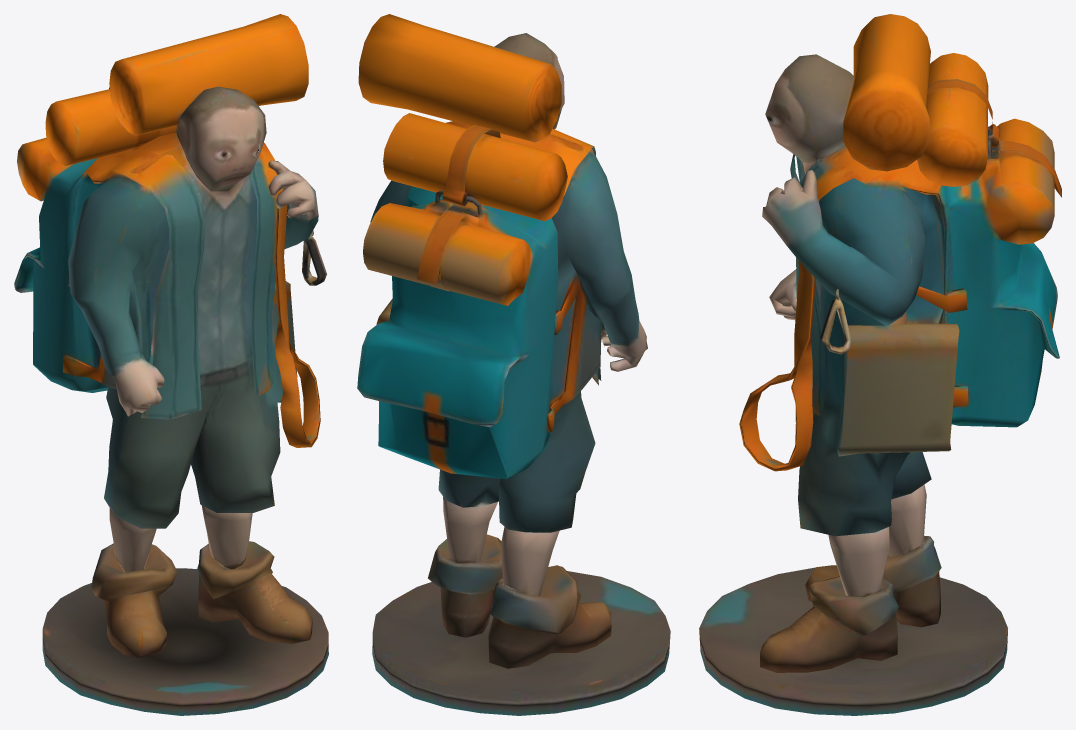
The model's file is friend.glb.
3 renders of one model, left to right at view 1: azimuth 30°, elevation 25°; view 2: azimuth 150°, elevation 25°; view 3: azimuth 270°, elevation 25°, orthographic. The views are drawn at different scales.
Bounding box in the file's own units: 0.4194 × 0.9526 × 0.498.
Materials: 1 (1 with a texture image).
